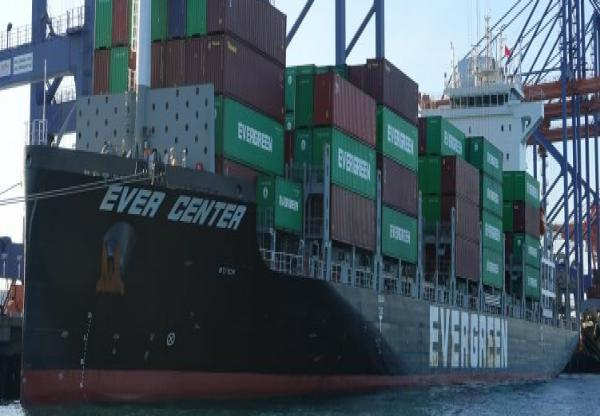Container Ship: (16, 0, 582, 407)
